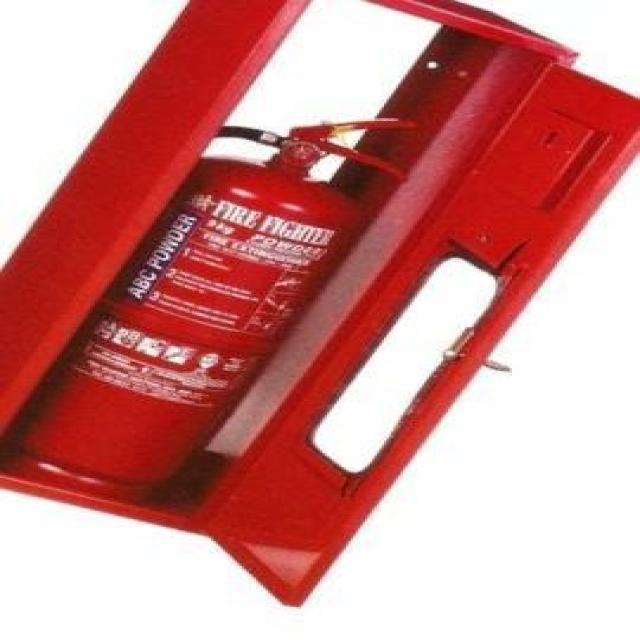fire_extinguisher: (0, 112, 422, 510)
